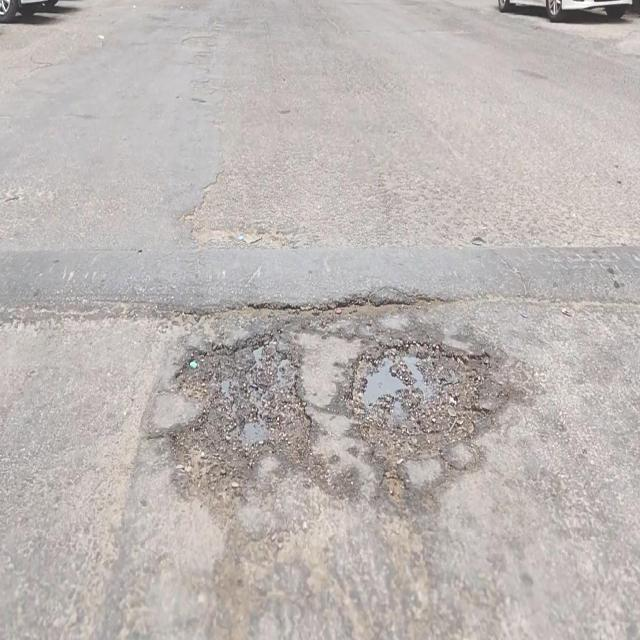Potholes: (171, 328, 311, 483), (347, 340, 479, 463)
